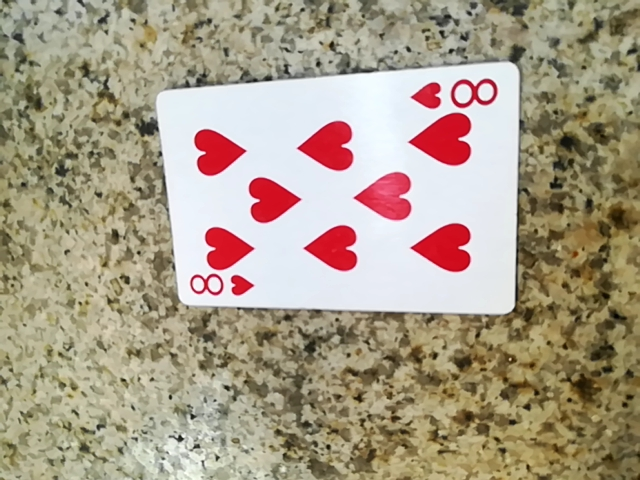hx 8: (141, 54, 512, 310)
